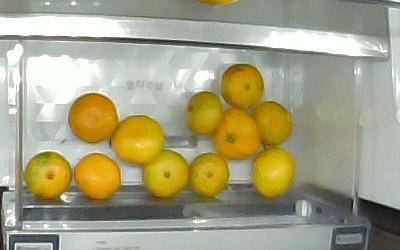tangerine: (112, 115, 165, 166), (211, 109, 262, 161), (69, 93, 120, 144), (251, 148, 298, 200), (24, 151, 72, 200), (141, 151, 189, 199), (74, 152, 121, 201), (220, 64, 266, 109), (184, 91, 225, 138), (254, 101, 295, 147), (189, 153, 229, 199)
